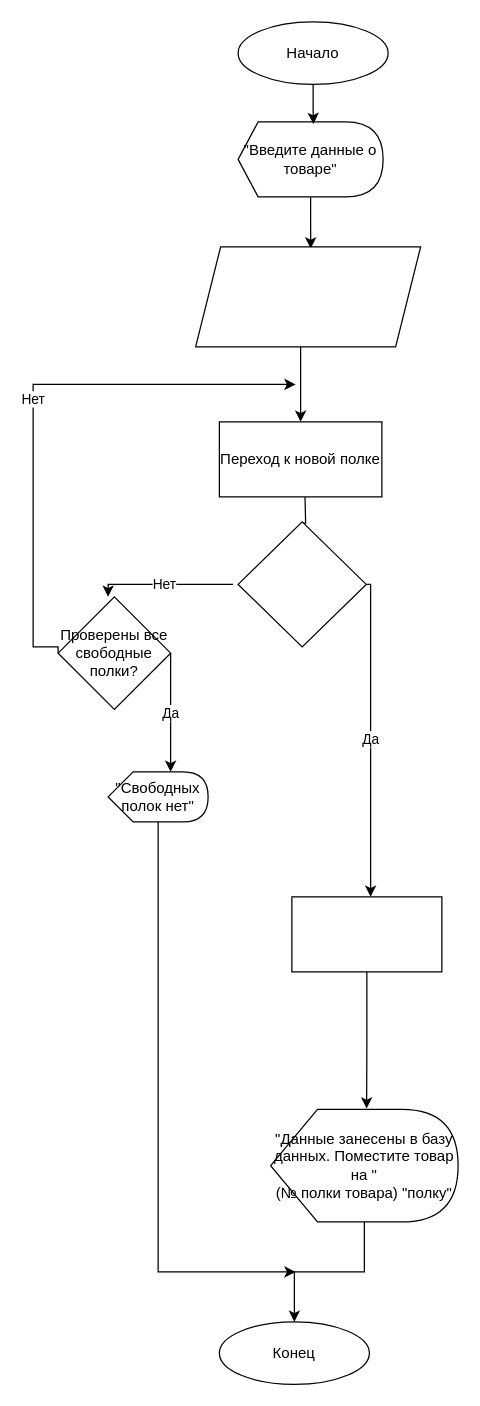
Some shapes in this 480 by 1406 pixel diagram are drawn without their labels. The box of each missing label's shape, as (x1, y1, x2, y2) in pixels:
Занесение значений в базу данных: (291, 896, 442, 972)
Считывание названия, количества, необходимость рецепта, занимаемое место: (194, 246, 421, 347)
Хватит ли места на полке, чтобы уместить товар?: (237, 521, 366, 647)
